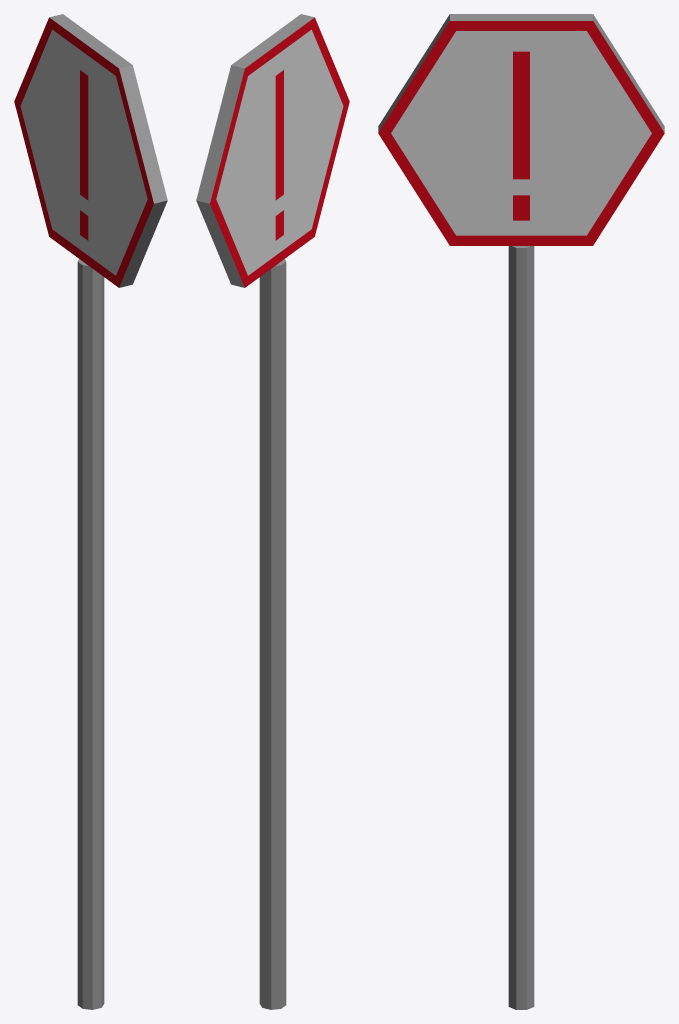
The model's file is Signage 2.fbx.
The picture shows the model from 3 angles, left to right: view 1: azimuth 30°, elevation 25°; view 2: azimuth 150°, elevation 25°; view 3: azimuth 270°, elevation 25°; orthographic projection. The views are drawn at different scales.
Visible parts, largest first — view 1: Signage 2; view 2: Signage 2; view 3: Signage 2.
Part boxes in pixels (x1,y1,x2,y2): Signage 2: [14, 14, 167, 1009]; Signage 2: [196, 14, 349, 1009]; Signage 2: [378, 14, 664, 1009].
Size of the model in its own units: 0.0622 by 0.6934 by 2.63.
